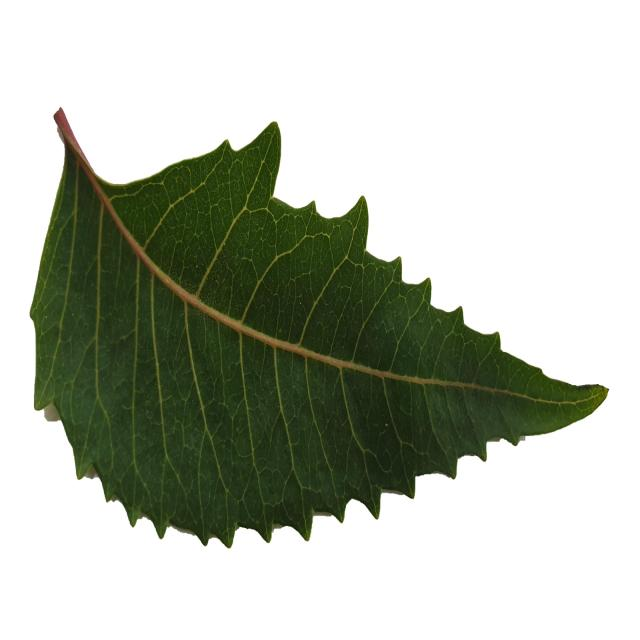Medicinal-Neem: (30, 103, 610, 546)
